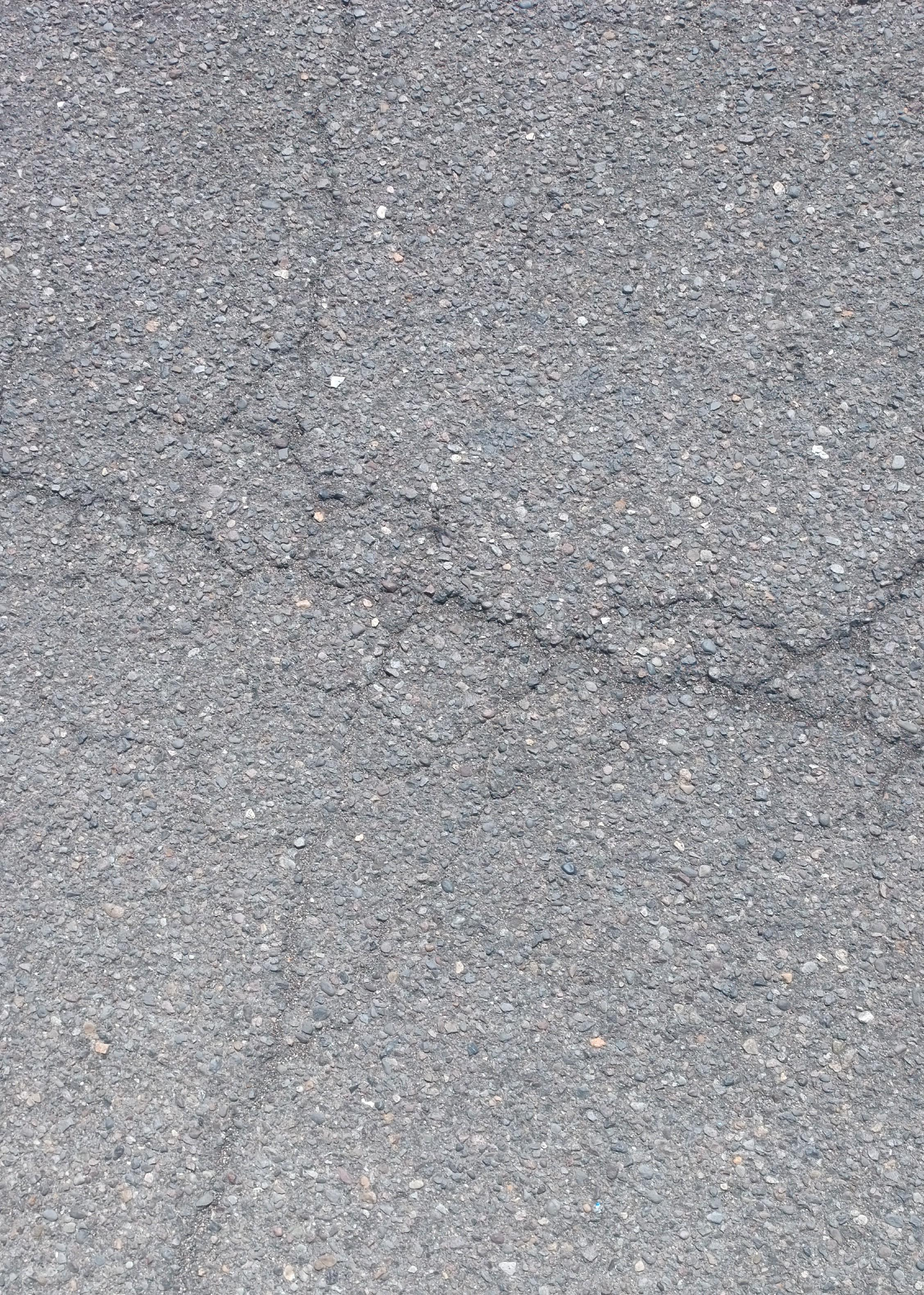GRIETA: (166, 900, 312, 1293), (303, 0, 362, 335)
PIEL DE COCODRILO: (26, 336, 904, 894)
